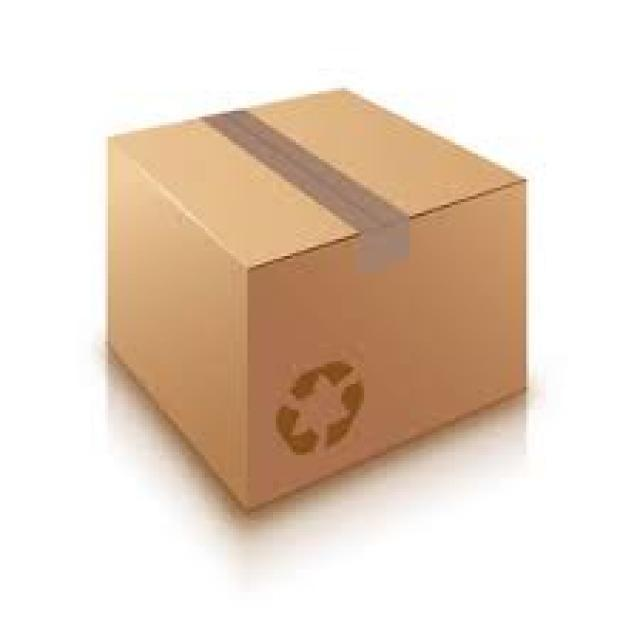Cardboard: (107, 82, 529, 516)
